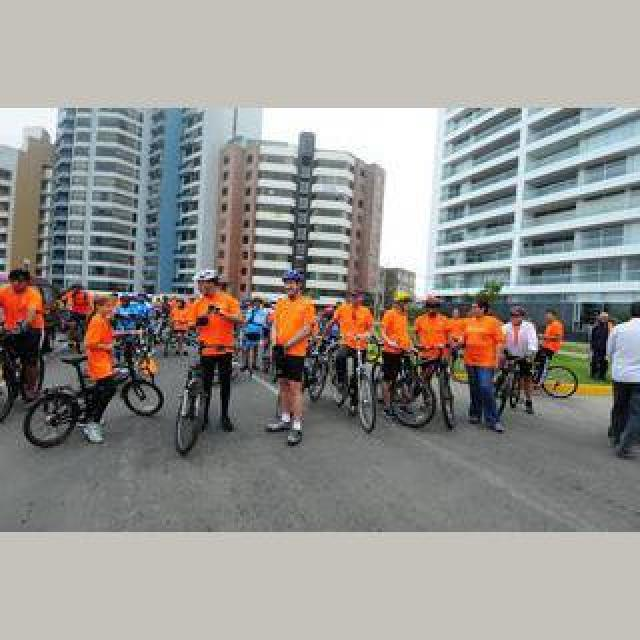MC-Bike: (172, 266, 244, 436), (266, 270, 320, 442), (0, 266, 48, 406), (82, 294, 128, 432), (462, 300, 506, 434), (326, 290, 374, 410), (606, 304, 640, 458), (498, 304, 540, 416), (414, 298, 454, 408), (380, 298, 416, 416), (534, 310, 564, 394)
Person: (22, 348, 164, 446), (326, 340, 382, 434), (378, 342, 436, 428), (172, 342, 214, 456), (496, 334, 540, 416)
